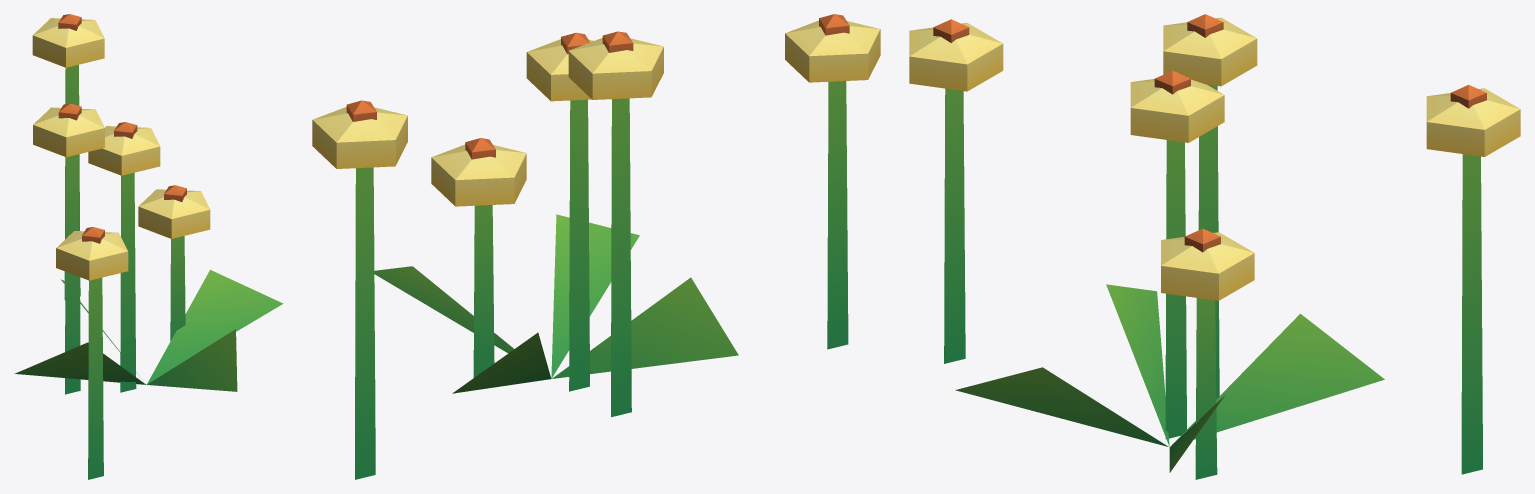
File: flowers_yellow.glb
3 renders of one model, left to right at view 1: azimuth 30°, elevation 25°; view 2: azimuth 150°, elevation 25°; view 3: azimuth 270°, elevation 25°, orthographic. The views are drawn at different scales.
Parts seen in each view (by area): view 1: flowers_yellow; view 2: flowers_yellow; view 3: flowers_yellow.
Part boxes in pixels (x1,y1,x2,y2): flowers_yellow: (14,14,283,479); flowers_yellow: (312,14,880,479); flowers_yellow: (909,14,1520,479).
Bounding box in the file's own units: 0.3963 × 0.3605 × 0.5103.
1 material, 1 textured.
